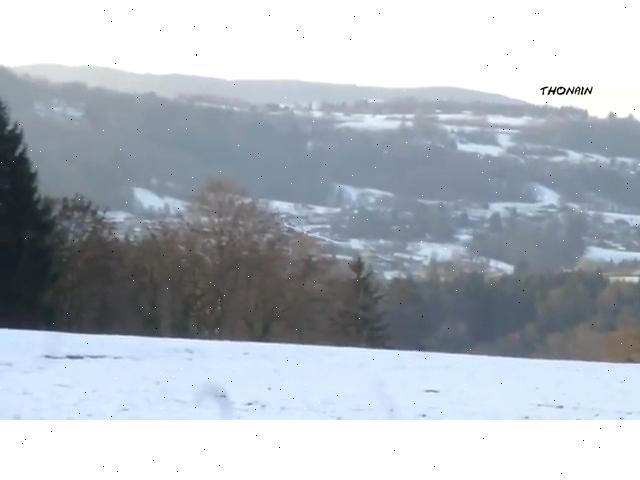Anti-Drone: (284, 224, 342, 244)
